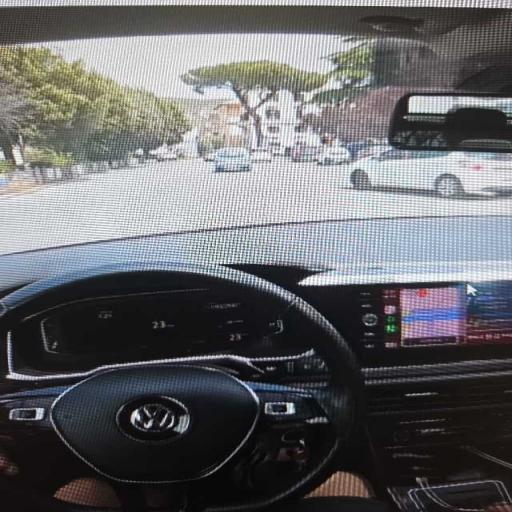car: (0, 0, 511, 511), (351, 149, 511, 197), (214, 148, 251, 172), (317, 146, 350, 165), (291, 146, 319, 162), (149, 149, 179, 162), (251, 149, 273, 162), (204, 150, 218, 162)
lane: (0, 160, 511, 253)
